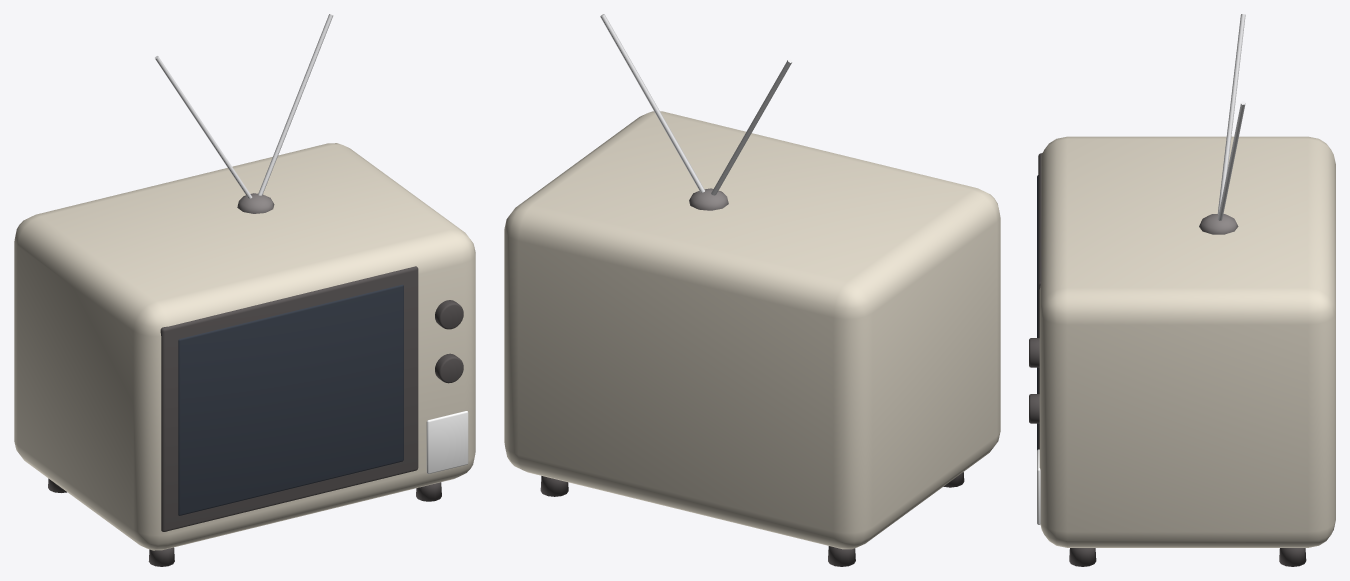
File: Television_01.glb
3 renders of one model, left to right at view 1: azimuth 30°, elevation 25°; view 2: azimuth 150°, elevation 25°; view 3: azimuth 270°, elevation 25°, orthographic. The views are drawn at different scales.
Visible parts, largest first — view 1: Television_01_body, Television_01_glass, Television_01_bezel, Television_01_grille, Television_01_antenna_1, Television_01_antenna, Television_01_knob, Television_01_knob_1, Television_01_ant_base; view 2: Television_01_body, Television_01_antenna_1, Television_01_antenna, Television_01_ant_base; view 3: Television_01_body, Television_01_antenna, Television_01_bezel, Television_01_antenna_1, Television_01_ant_base, Television_01_foot_3, Television_01_foot_2, Television_01_glass.
Part boxes in pixels (x1,y1,x2,y2): Television_01_body: (14,143,475,550); Television_01_glass: (178,284,403,515); Television_01_bezel: (160,266,418,531); Television_01_grille: (426,411,468,473); Television_01_antenna_1: (258,14,333,195); Television_01_antenna: (155,56,252,198); Television_01_knob: (435,300,463,329); Television_01_knob_1: (435,353,463,383); Television_01_ant_base: (237,193,274,213); Television_01_body: (504,111,1000,549); Television_01_antenna_1: (600,14,704,192); Television_01_antenna: (711,59,792,195); Television_01_ant_base: (689,188,728,210); Television_01_body: (1039,136,1335,547); Television_01_antenna: (1217,14,1245,214); Television_01_bezel: (1038,153,1042,449); Television_01_antenna_1: (1217,101,1245,220); Television_01_ant_base: (1199,214,1238,234); Television_01_foot_3: (1069,548,1096,566); Television_01_foot_2: (1279,548,1306,566); Television_01_glass: (1037,175,1038,450).
Bounding box in the file's own units: 0.66 × 0.8017 × 0.497.
